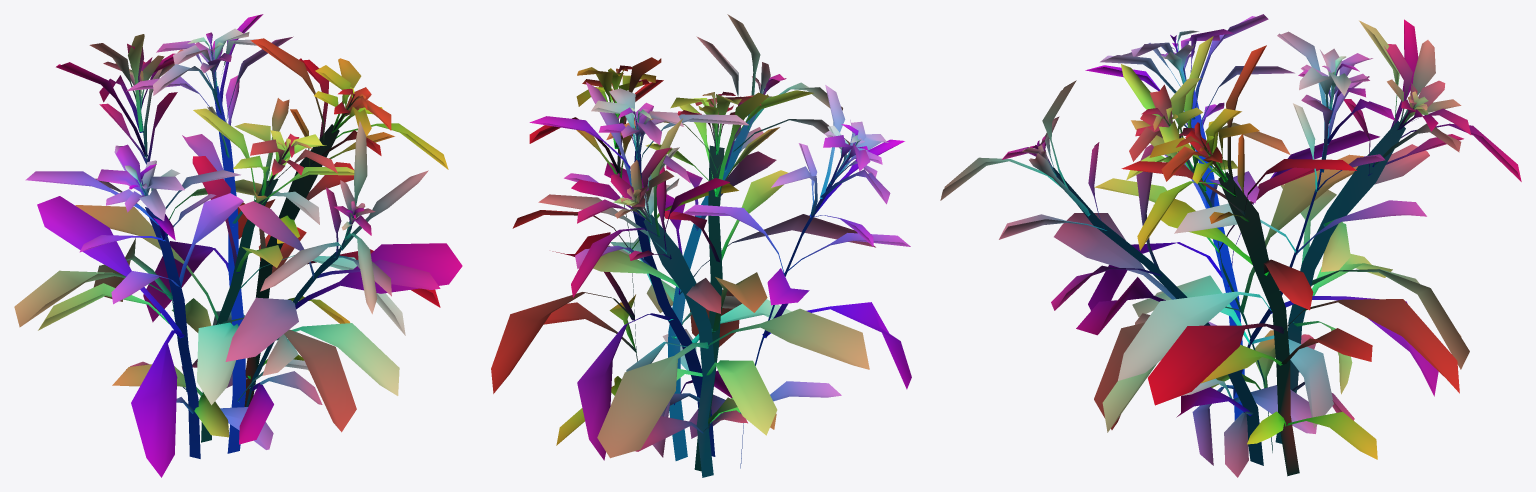
Rendered from Sage_ve3gbfoja_Mid_ve3gbfoja_VarA_LOD2.fbx.
The picture shows the model from 3 angles, left to right: view 1: azimuth 30°, elevation 25°; view 2: azimuth 150°, elevation 25°; view 3: azimuth 270°, elevation 25°; orthographic projection. The views are drawn at different scales.
Parts seen in each view (by area): view 1: _glnz_VarA_LOD4; view 2: _glnz_VarA_LOD4; view 3: _glnz_VarA_LOD4.
Part boxes in pixels (x1,y1,x2,y2): _glnz_VarA_LOD4: (14, 14, 462, 477); _glnz_VarA_LOD4: (491, 14, 911, 477); _glnz_VarA_LOD4: (940, 14, 1521, 477).
Bounding box in the file's own units: 71.96 × 73.08 × 89.84.
